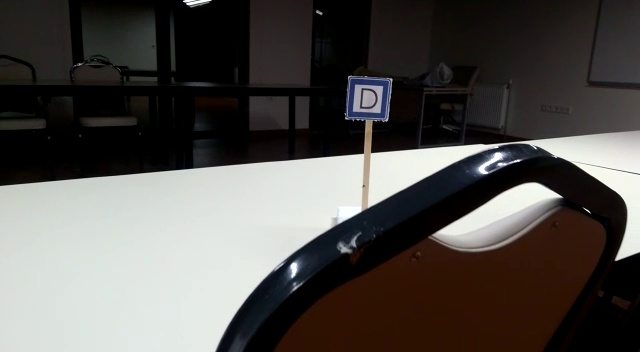durak: (345, 77, 392, 120)
